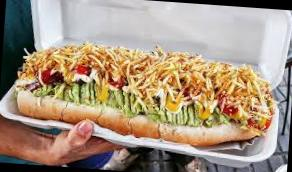Completos: (23, 41, 275, 158)
